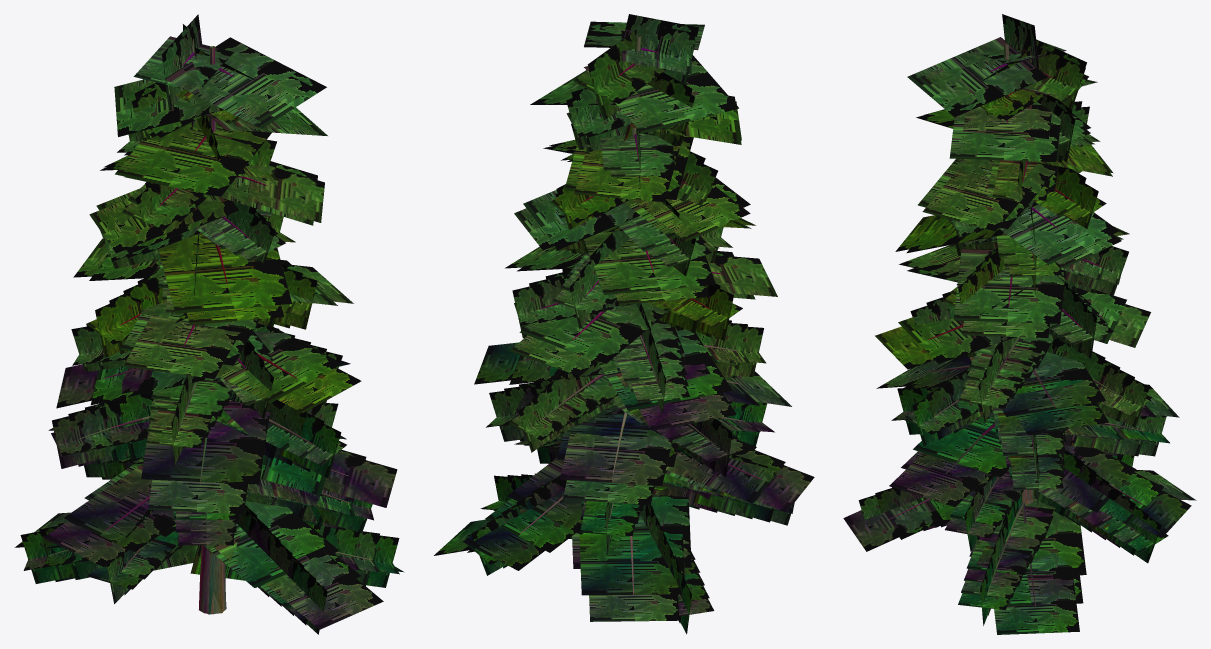
Rendered from tree-spruce.glb.
The picture shows the model from 3 angles, left to right: view 1: azimuth 30°, elevation 25°; view 2: azimuth 150°, elevation 25°; view 3: azimuth 270°, elevation 25°; orthographic projection. The views are drawn at different scales.
Parts seen in each view (by area): view 1: lo-leaf, hi-leaf, lo-bark, hi-bark; view 2: lo-leaf, hi-leaf, hi-bark, lo-bark; view 3: lo-leaf, hi-leaf, hi-bark, lo-bark.
Part boxes in pixels (x1,y1,x2,y2): lo-leaf: (14, 37, 404, 629); hi-leaf: (20, 14, 399, 634); lo-bark: (102, 46, 348, 614); hi-bark: (49, 39, 371, 614); lo-leaf: (434, 21, 814, 621); hi-leaf: (468, 14, 794, 634); hi-bark: (515, 34, 743, 600); lo-bark: (520, 249, 761, 595); lo-leaf: (843, 37, 1196, 634); hi-leaf: (858, 14, 1169, 625); hi-bark: (934, 49, 1143, 594); lo-bark: (889, 43, 1143, 608).
Bounding box in the file's own units: 8.43 × 13.84 × 8.33.
2 materials, 2 textured.
